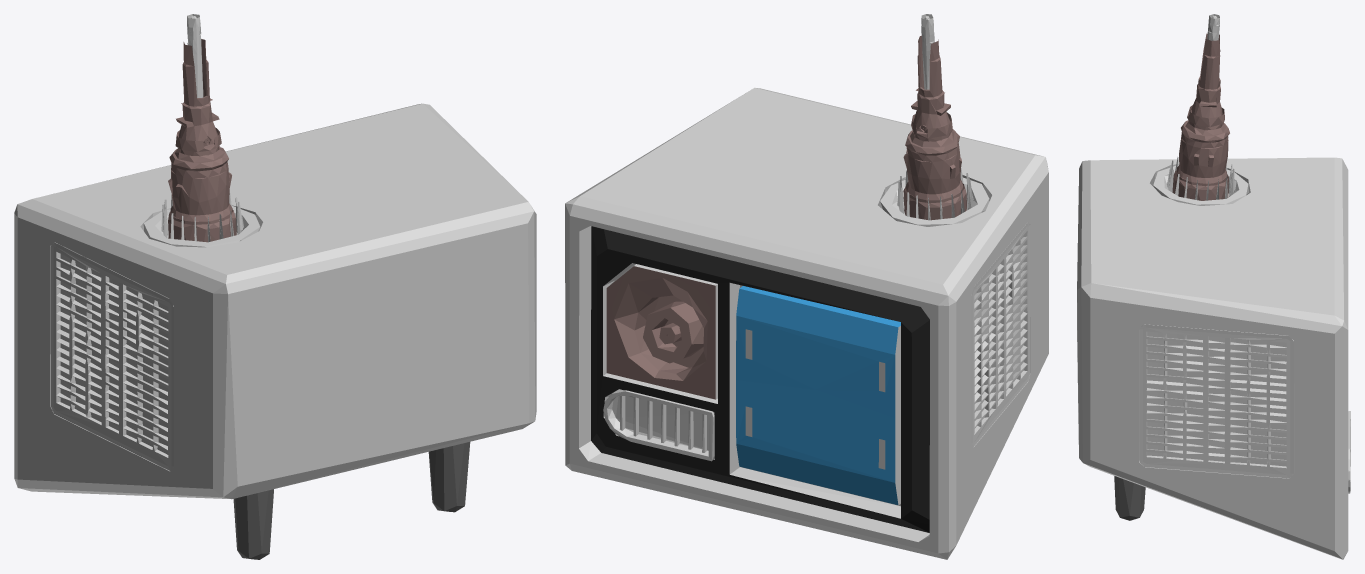
The model's file is Monitor1.fbx.
3 renders of one model, left to right at view 1: azimuth 30°, elevation 25°; view 2: azimuth 150°, elevation 25°; view 3: azimuth 270°, elevation 25°, orthographic. The views are drawn at different scales.
Parts seen in each view (by area): view 1: Monitor; view 2: Monitor; view 3: Monitor.
Boxes of the visible parts, x1=… form: Monitor: x1=14, y1=14, x2=536, y2=559; Monitor: x1=565, y1=14, x2=1048, y2=559; Monitor: x1=1077, y1=14, x2=1350, y2=559.
Bounding box in the file's own units: 148 × 171 × 101.
